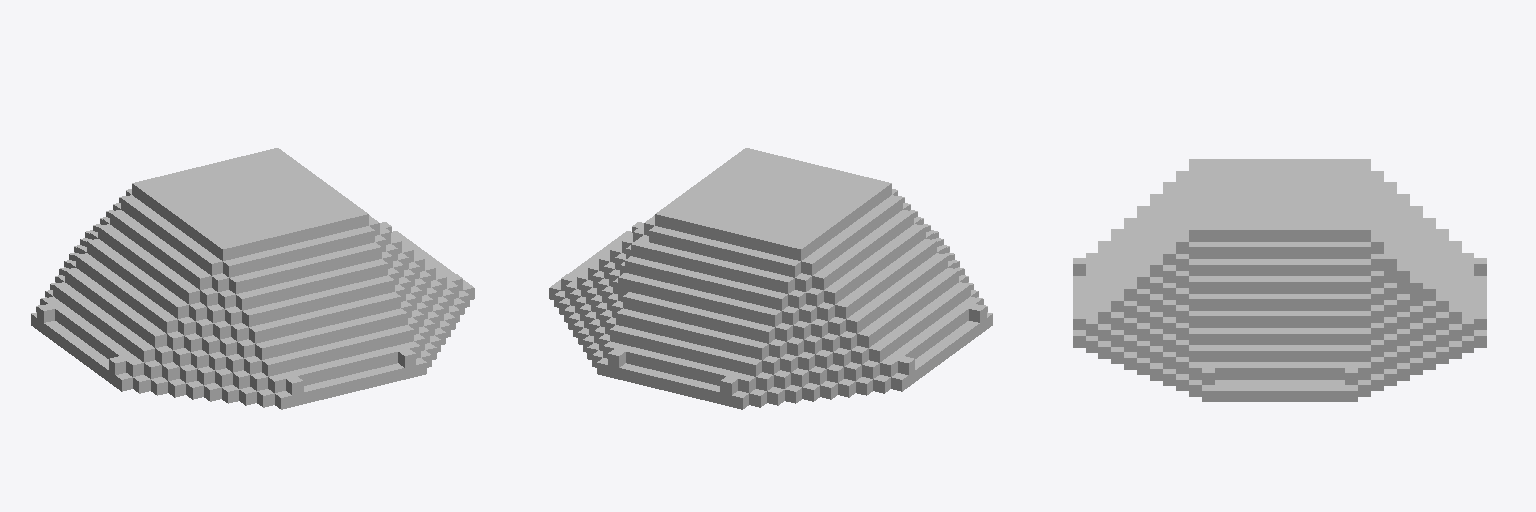
File: Platform.obj
3 views of the same model, side by side, from view 1: azimuth 30°, elevation 25°; view 2: azimuth 150°, elevation 25°; view 3: azimuth 270°, elevation 25° (orthographic).
Parts seen in each view (by area): view 1: object 1; view 2: object 1; view 3: object 1.
Boxes of the visible parts, x1=… form: object 1: x1=31, y1=148, x2=474, y2=409; object 1: x1=549, y1=148, x2=992, y2=409; object 1: x1=1073, y1=159, x2=1486, y2=401.
Bounding box in the file's own units: 3.2 × 1 × 3.2.